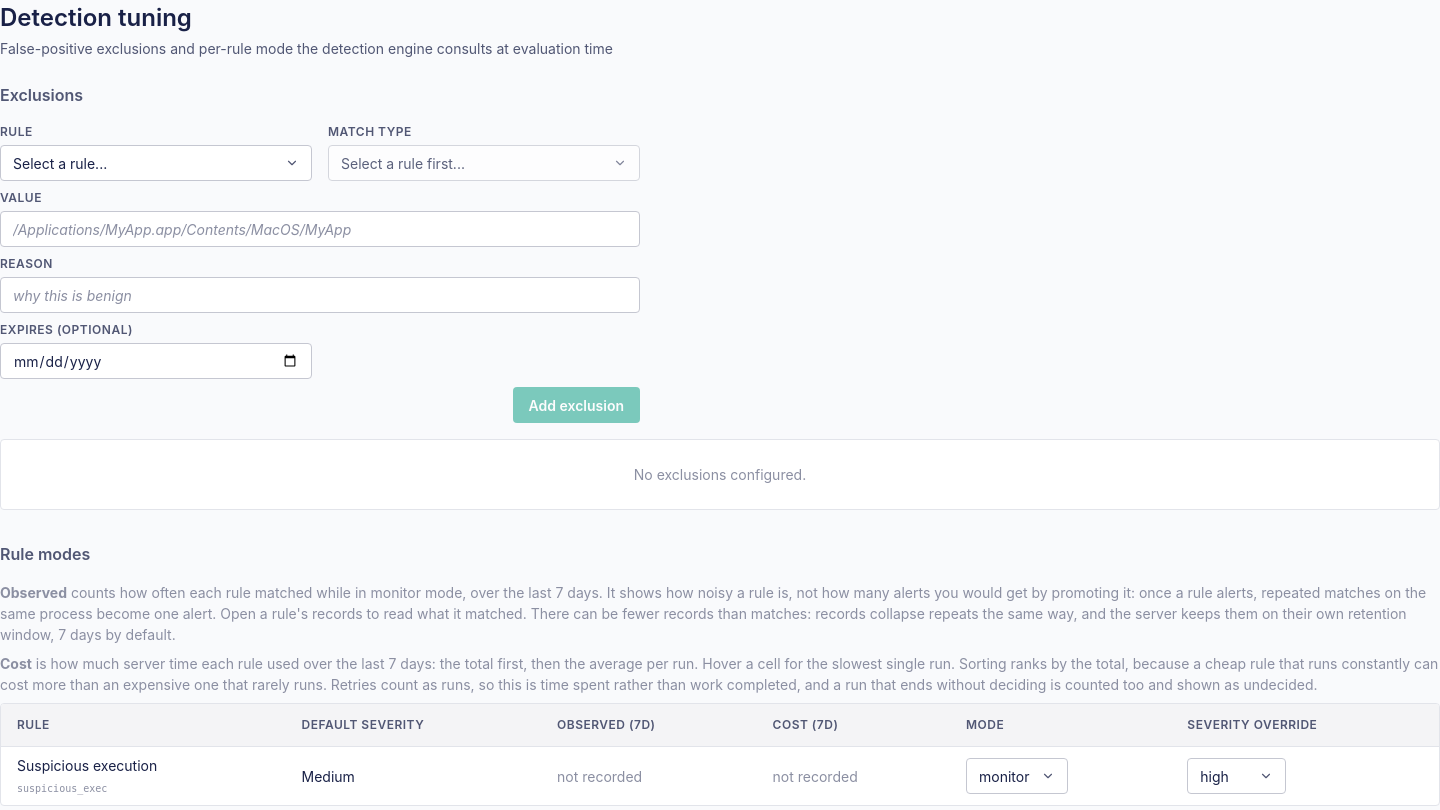
DetectionConfig › describes disabling by its target state, since it is reachable from monitor too
Select "disabled" in the dropdown named "mode for suspicious_exec" at (1017, 776), box [966,758,1068,794]
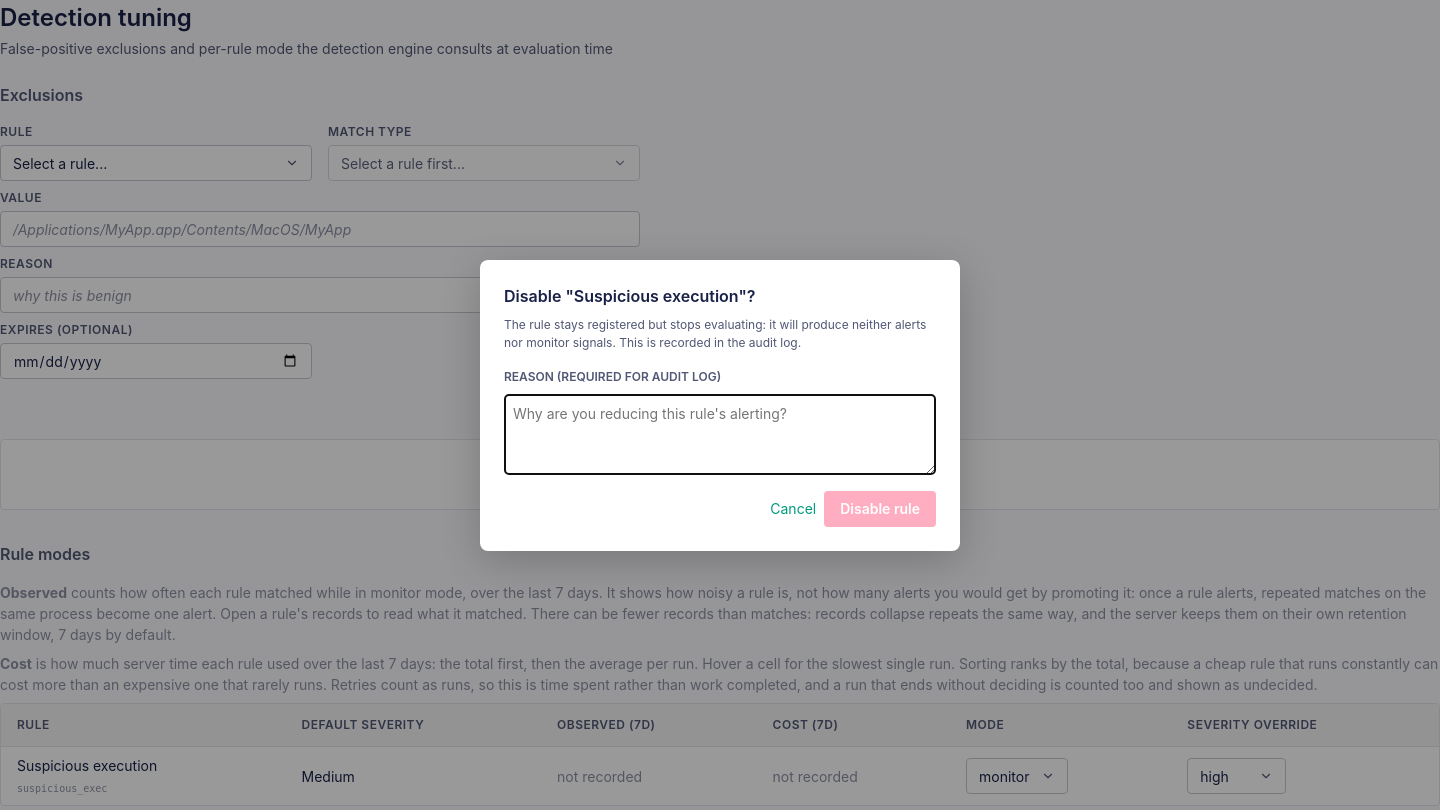
Expected: the heading "Disable \"Suspicious execution\"?" is shown, [504,286,756,306]
Expected: the text "neither alerts nor monitor signals" is shown, [504,316,926,350]
